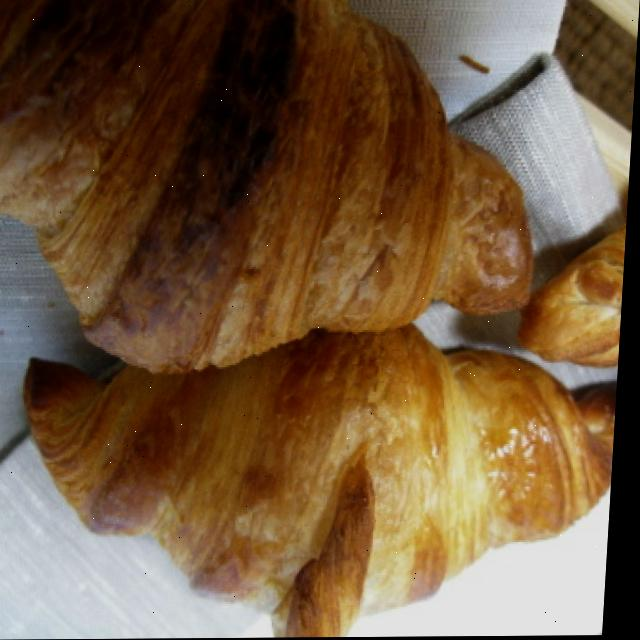面包点心: (0, 308, 625, 640)
